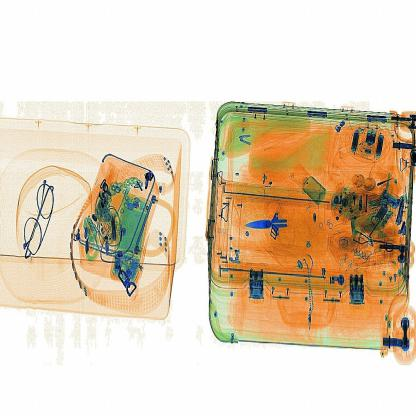gun: (241, 195, 302, 246)
